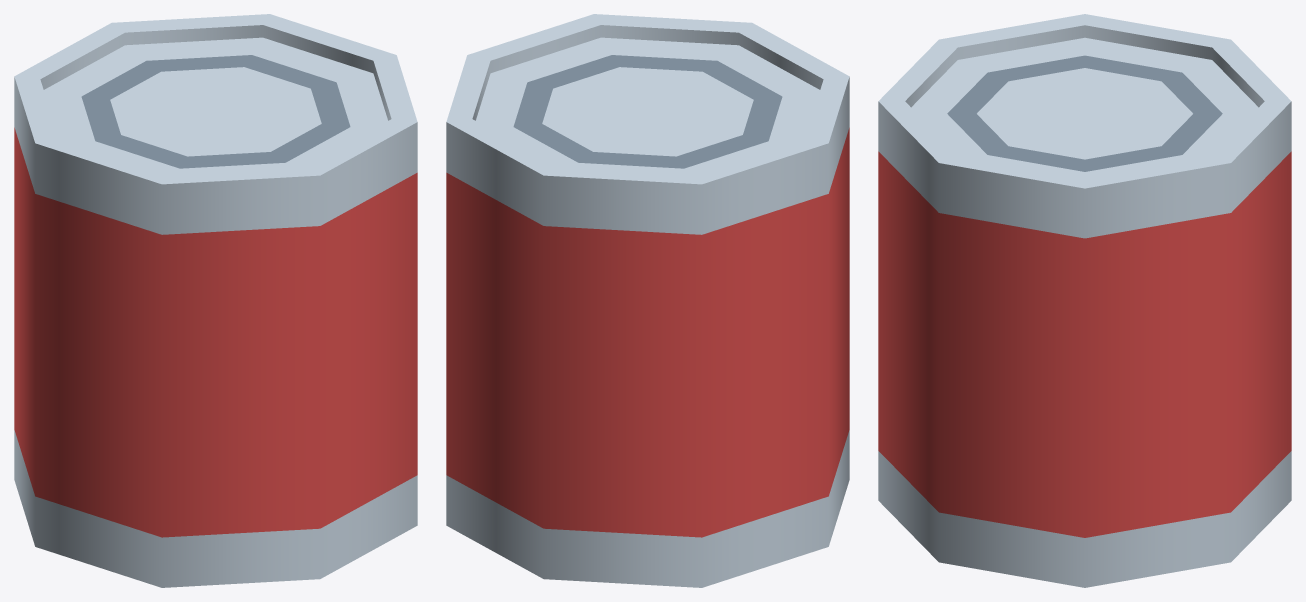
File: can.obj
3 renders of one model, left to right at view 1: azimuth 30°, elevation 25°; view 2: azimuth 150°, elevation 25°; view 3: azimuth 270°, elevation 25°, orthographic.
Visible parts, largest first — view 1: can; view 2: can; view 3: can.
Boxes of the visible parts, x1,y1,x2,y2 form: can: (14, 14, 417, 587); can: (446, 14, 849, 587); can: (878, 14, 1291, 587).
Size of the model in its own units: 0.3 by 0.32 by 0.3.
